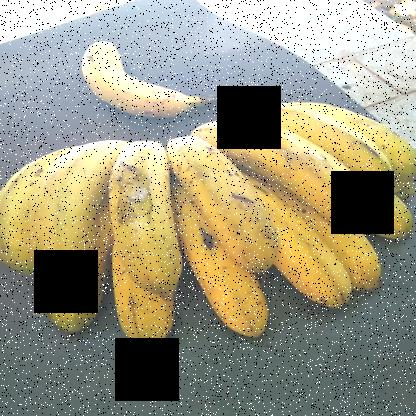ripe: (193, 110, 369, 220), (24, 121, 137, 282), (164, 122, 283, 268), (106, 126, 194, 293), (80, 42, 211, 120), (271, 202, 362, 312), (180, 224, 268, 333), (94, 254, 180, 358), (0, 148, 55, 266)
